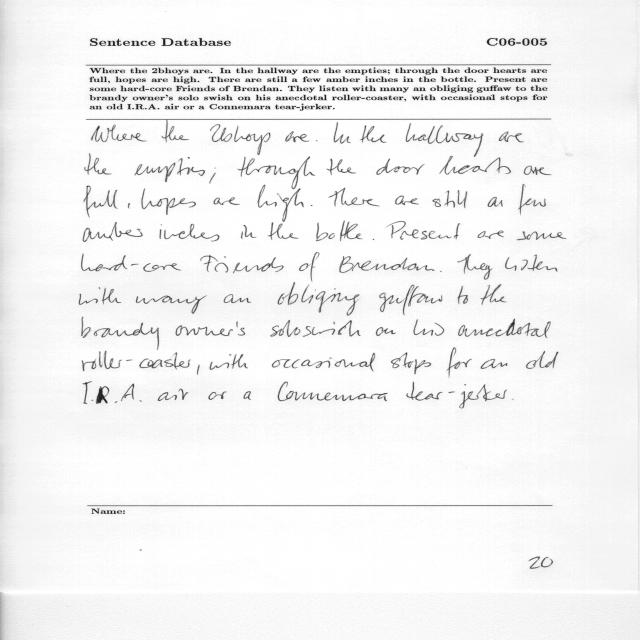word: (278, 283, 360, 316), (407, 382, 508, 408), (406, 123, 483, 157), (82, 317, 159, 350), (238, 157, 315, 189), (83, 351, 191, 371), (278, 382, 388, 401), (272, 353, 375, 372), (379, 285, 442, 315), (210, 124, 270, 155), (82, 254, 181, 272), (134, 157, 205, 182), (458, 319, 551, 338), (257, 185, 304, 222), (339, 256, 435, 273), (200, 255, 284, 273), (141, 188, 196, 215), (387, 221, 461, 240), (439, 156, 511, 175), (83, 382, 142, 404), (136, 296, 207, 314), (83, 222, 143, 242), (84, 186, 118, 218), (160, 224, 220, 242), (176, 321, 245, 336), (328, 188, 380, 207), (303, 320, 361, 337), (92, 125, 147, 142), (316, 221, 362, 241), (458, 254, 493, 280), (505, 255, 557, 272), (391, 353, 431, 375), (519, 184, 546, 215), (376, 159, 425, 175), (80, 287, 122, 305), (447, 348, 472, 377), (433, 190, 468, 208), (299, 252, 320, 282), (209, 354, 248, 370), (162, 120, 189, 142), (526, 351, 558, 369), (85, 154, 112, 175), (481, 284, 507, 305), (268, 222, 298, 240), (270, 320, 301, 337), (414, 319, 445, 336), (327, 159, 357, 175), (360, 125, 386, 143), (517, 232, 567, 241), (334, 122, 351, 144), (158, 389, 188, 401), (285, 132, 310, 143), (499, 132, 524, 143), (481, 359, 508, 369), (524, 166, 551, 175), (224, 294, 251, 303), (478, 230, 504, 239), (395, 196, 419, 205), (241, 225, 256, 239), (214, 197, 240, 205), (458, 286, 468, 304), (376, 327, 396, 336), (208, 392, 227, 400), (488, 197, 503, 207), (209, 167, 216, 184), (243, 391, 251, 400), (197, 365, 200, 375), (128, 204, 130, 209), (316, 140, 318, 141), (311, 205, 313, 206), (373, 239, 375, 240), (440, 271, 442, 272), (512, 399, 513, 400)
